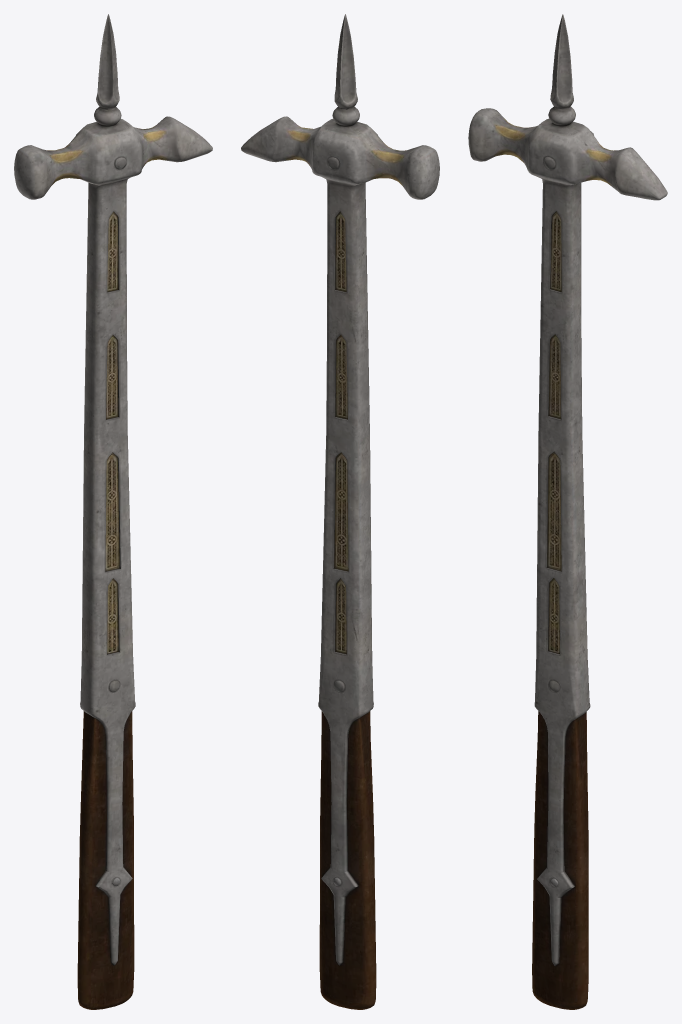
Rendered from hammer.glb.
The picture shows the model from 3 angles, left to right: view 1: azimuth 30°, elevation 25°; view 2: azimuth 150°, elevation 25°; view 3: azimuth 330°, elevation 25°; orthographic projection.
Parts seen in each view (by area): view 1: ornate_war_hammer; view 2: ornate_war_hammer; view 3: ornate_war_hammer.
Boxes of the visible parts, x1,y1,x2,y2 form: ornate_war_hammer: [14, 14, 212, 1009]; ornate_war_hammer: [241, 14, 439, 1009]; ornate_war_hammer: [468, 14, 667, 1009].
Bounding box in the file's own units: 0.144 × 0.7112 × 0.0347.
1 material, 1 textured.
